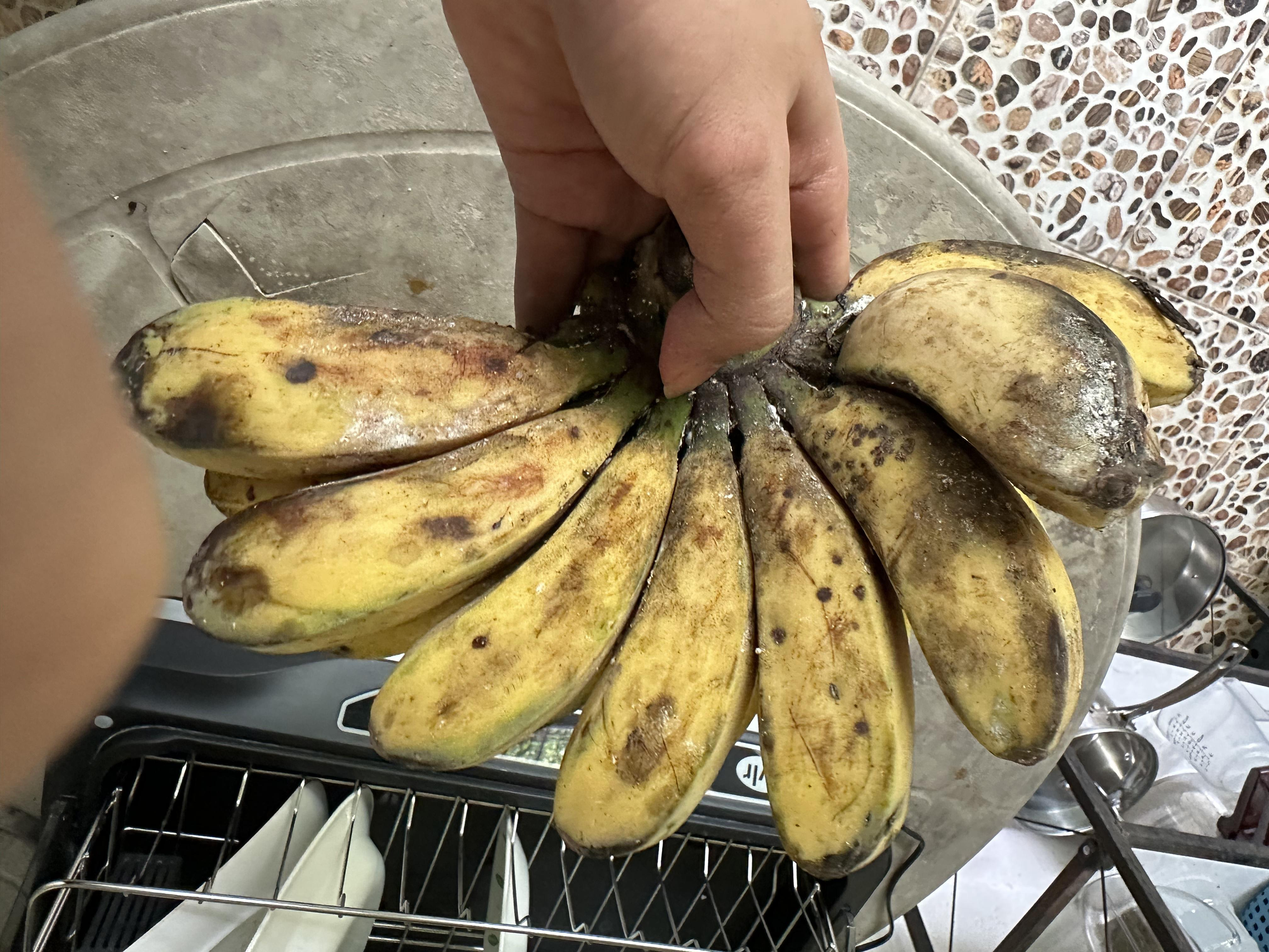underripe: (113, 239, 1208, 881)
